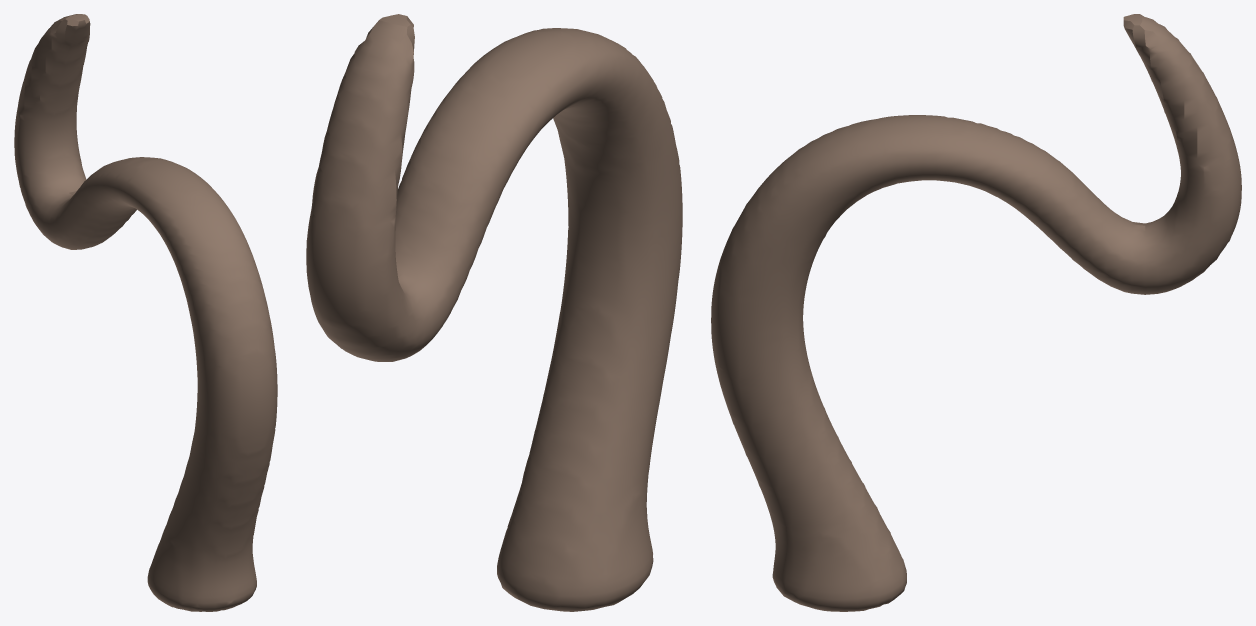
Rendered from idkman.fbx.
3 renders of one model, left to right at view 1: azimuth 30°, elevation 25°; view 2: azimuth 150°, elevation 25°; view 3: azimuth 270°, elevation 25°, orthographic. The views are drawn at different scales.
Visible parts, largest first — view 1: Cube.001; view 2: Cube.001; view 3: Cube.001.
Boxes of the visible parts, left/top/right/bottom form: Cube.001: left=14, top=14, right=277, bottom=611; Cube.001: left=306, top=14, right=682, bottom=611; Cube.001: left=711, top=14, right=1241, bottom=611.
Size of the model in its own units: 131 by 677 by 563.
